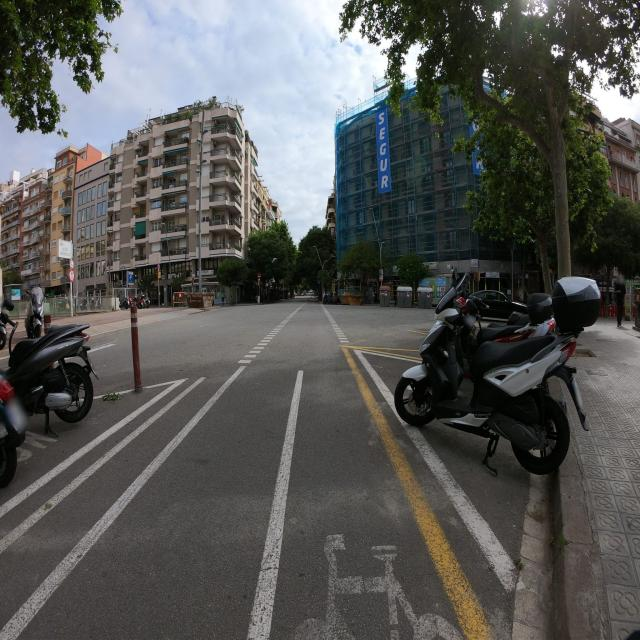forb_stopping: (158, 264, 161, 269)
